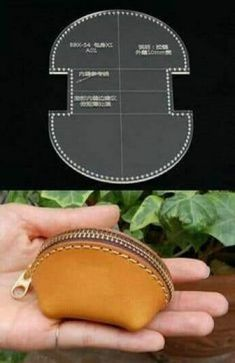cuero: (28, 228, 174, 331)
